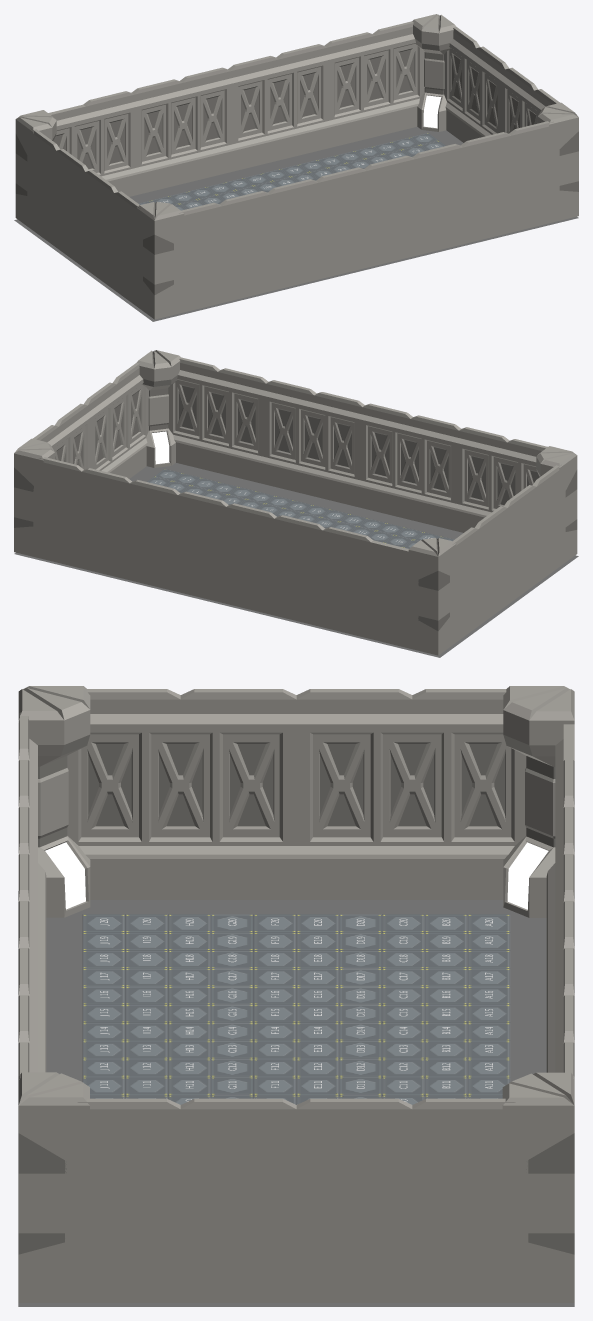
Rendered from Parking_GameBoard_Base.fbx.
3 views of the same model, one above another, from view 1: azimuth 30°, elevation 25°; view 2: azimuth 150°, elevation 25°; view 3: azimuth 270°, elevation 25° (orthographic). The views are drawn at different scales.
Parts seen in each view (by area): view 1: Game_Border, Game_Floor; view 2: Game_Border, Game_Floor; view 3: Game_Border, Game_Floor, Map_Coordinates, Tile_A_19, Tile_B_19, Tile_F_19, Tile_J_19, Tile_I_16, Tile_B_18, Tile_I_19, Tile_B_20, Tile_I_14 (+89 smaller).
Part boxes in pixels (x1,y1,x2,y2): Game_Border: (15,14,578,319); Game_Floor: (14,127,578,321); Game_Border: (14,350,577,655); Game_Floor: (14,463,578,657); Game_Border: (18,686,574,1302); Game_Floor: (18,891,574,1306); Map_Coordinates: (100,918,493,1102); Tile_A_19: (467,932,510,950); Tile_B_19: (424,932,467,950); Tile_F_19: (253,932,296,950); Tile_J_19: (82,932,125,950); Tile_I_16: (125,986,168,1004); Tile_B_18: (424,950,467,968); Tile_I_19: (125,932,168,950); Tile_B_20: (424,914,467,932); Tile_I_14: (125,1022,168,1040).
Bounding box in the file's own units: 2300 × 537 × 1300.
